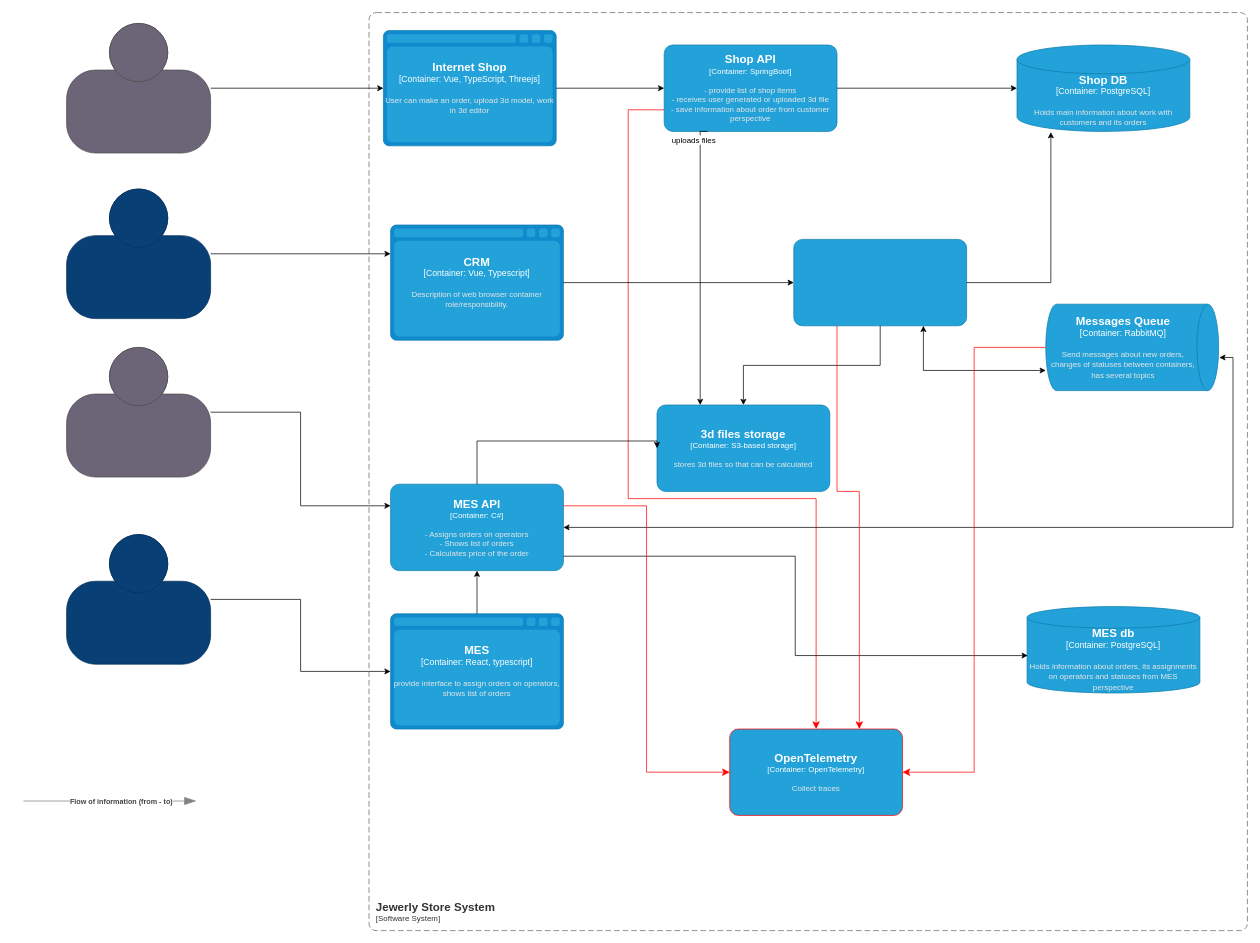
Image size: 1260x943. Some labels were removed from this diagram. The shapes that lost their labels are listed below. From the top down, each one's box as (x1, y1, x2, y2) in pixels, then its label:
(66, 23, 211, 153): Customer [Person] Description of external person.
(66, 188, 211, 319): Seller [Person] Operates with order, confirms manufacturing for the user
(793, 239, 967, 326): CRM API [Container: SpringBoot] Description of container role/responsibility.
(66, 347, 211, 477): API user [Person] Description of external person.
(66, 534, 211, 664): Operator [Person] Takes order in work, manufactures jewerly
